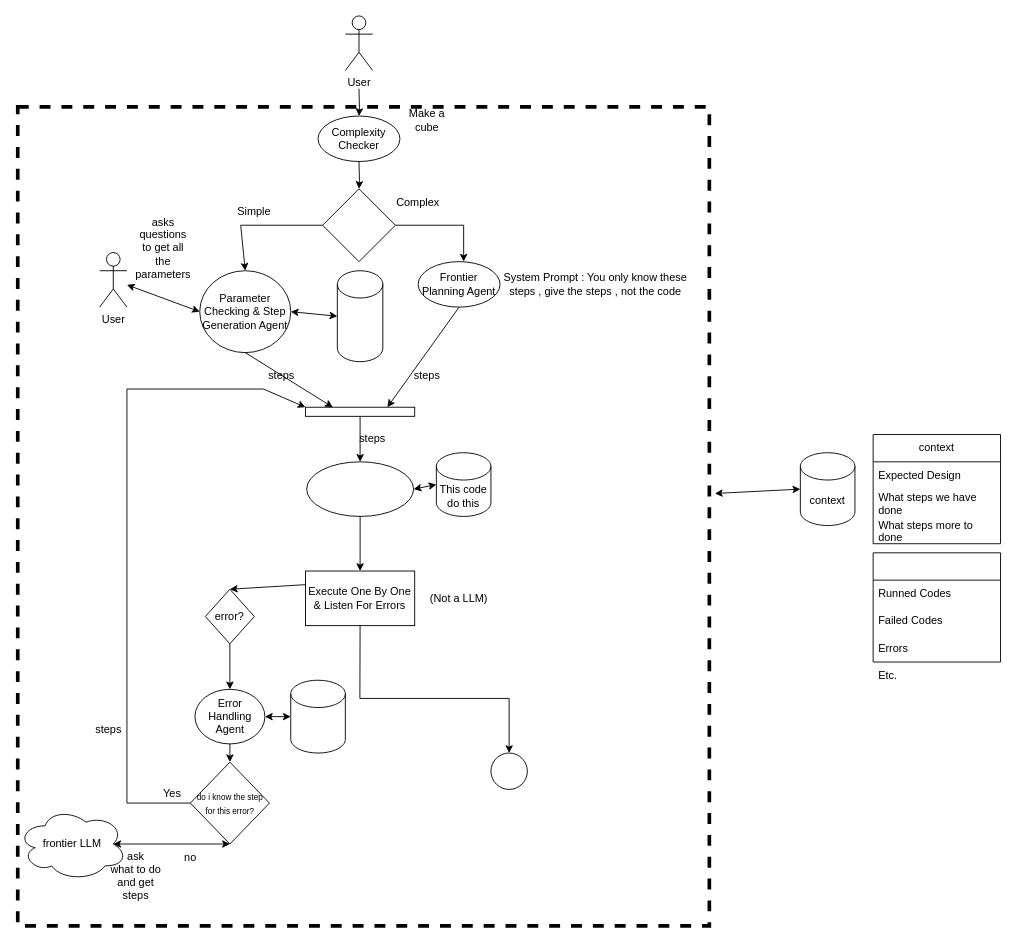
Image size: 1016x944. Some labels were removed from this diagram. The shapes that lost their labels are listed below. From the top down, each one's box as (x1, y1, x2, y2) in pixels, then its label:
(322, 188, 395, 262): Simple or Complex?
(336, 270, 383, 362): Parameter: What we need for make this
(306, 461, 414, 516): Code Generation Agent : A very lightweight SLM
(872, 552, 1001, 662): context cont,
(290, 679, 345, 753): do this step , for this error
(490, 752, 527, 789): End
